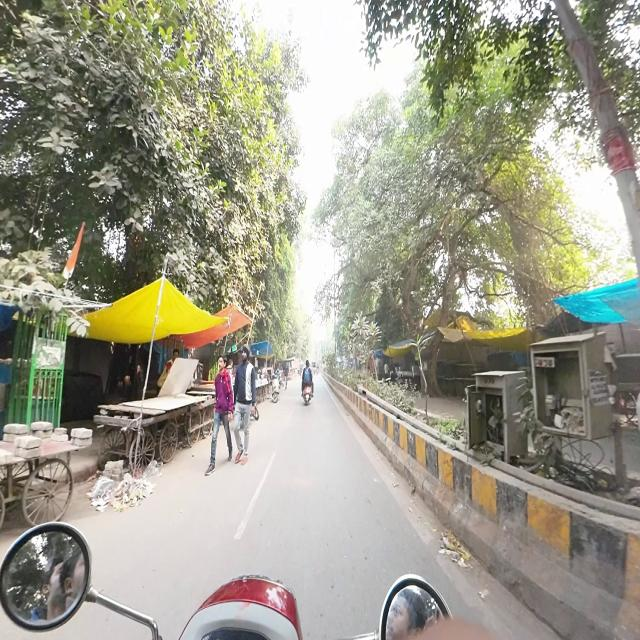Garbage: (93, 474, 148, 510)
